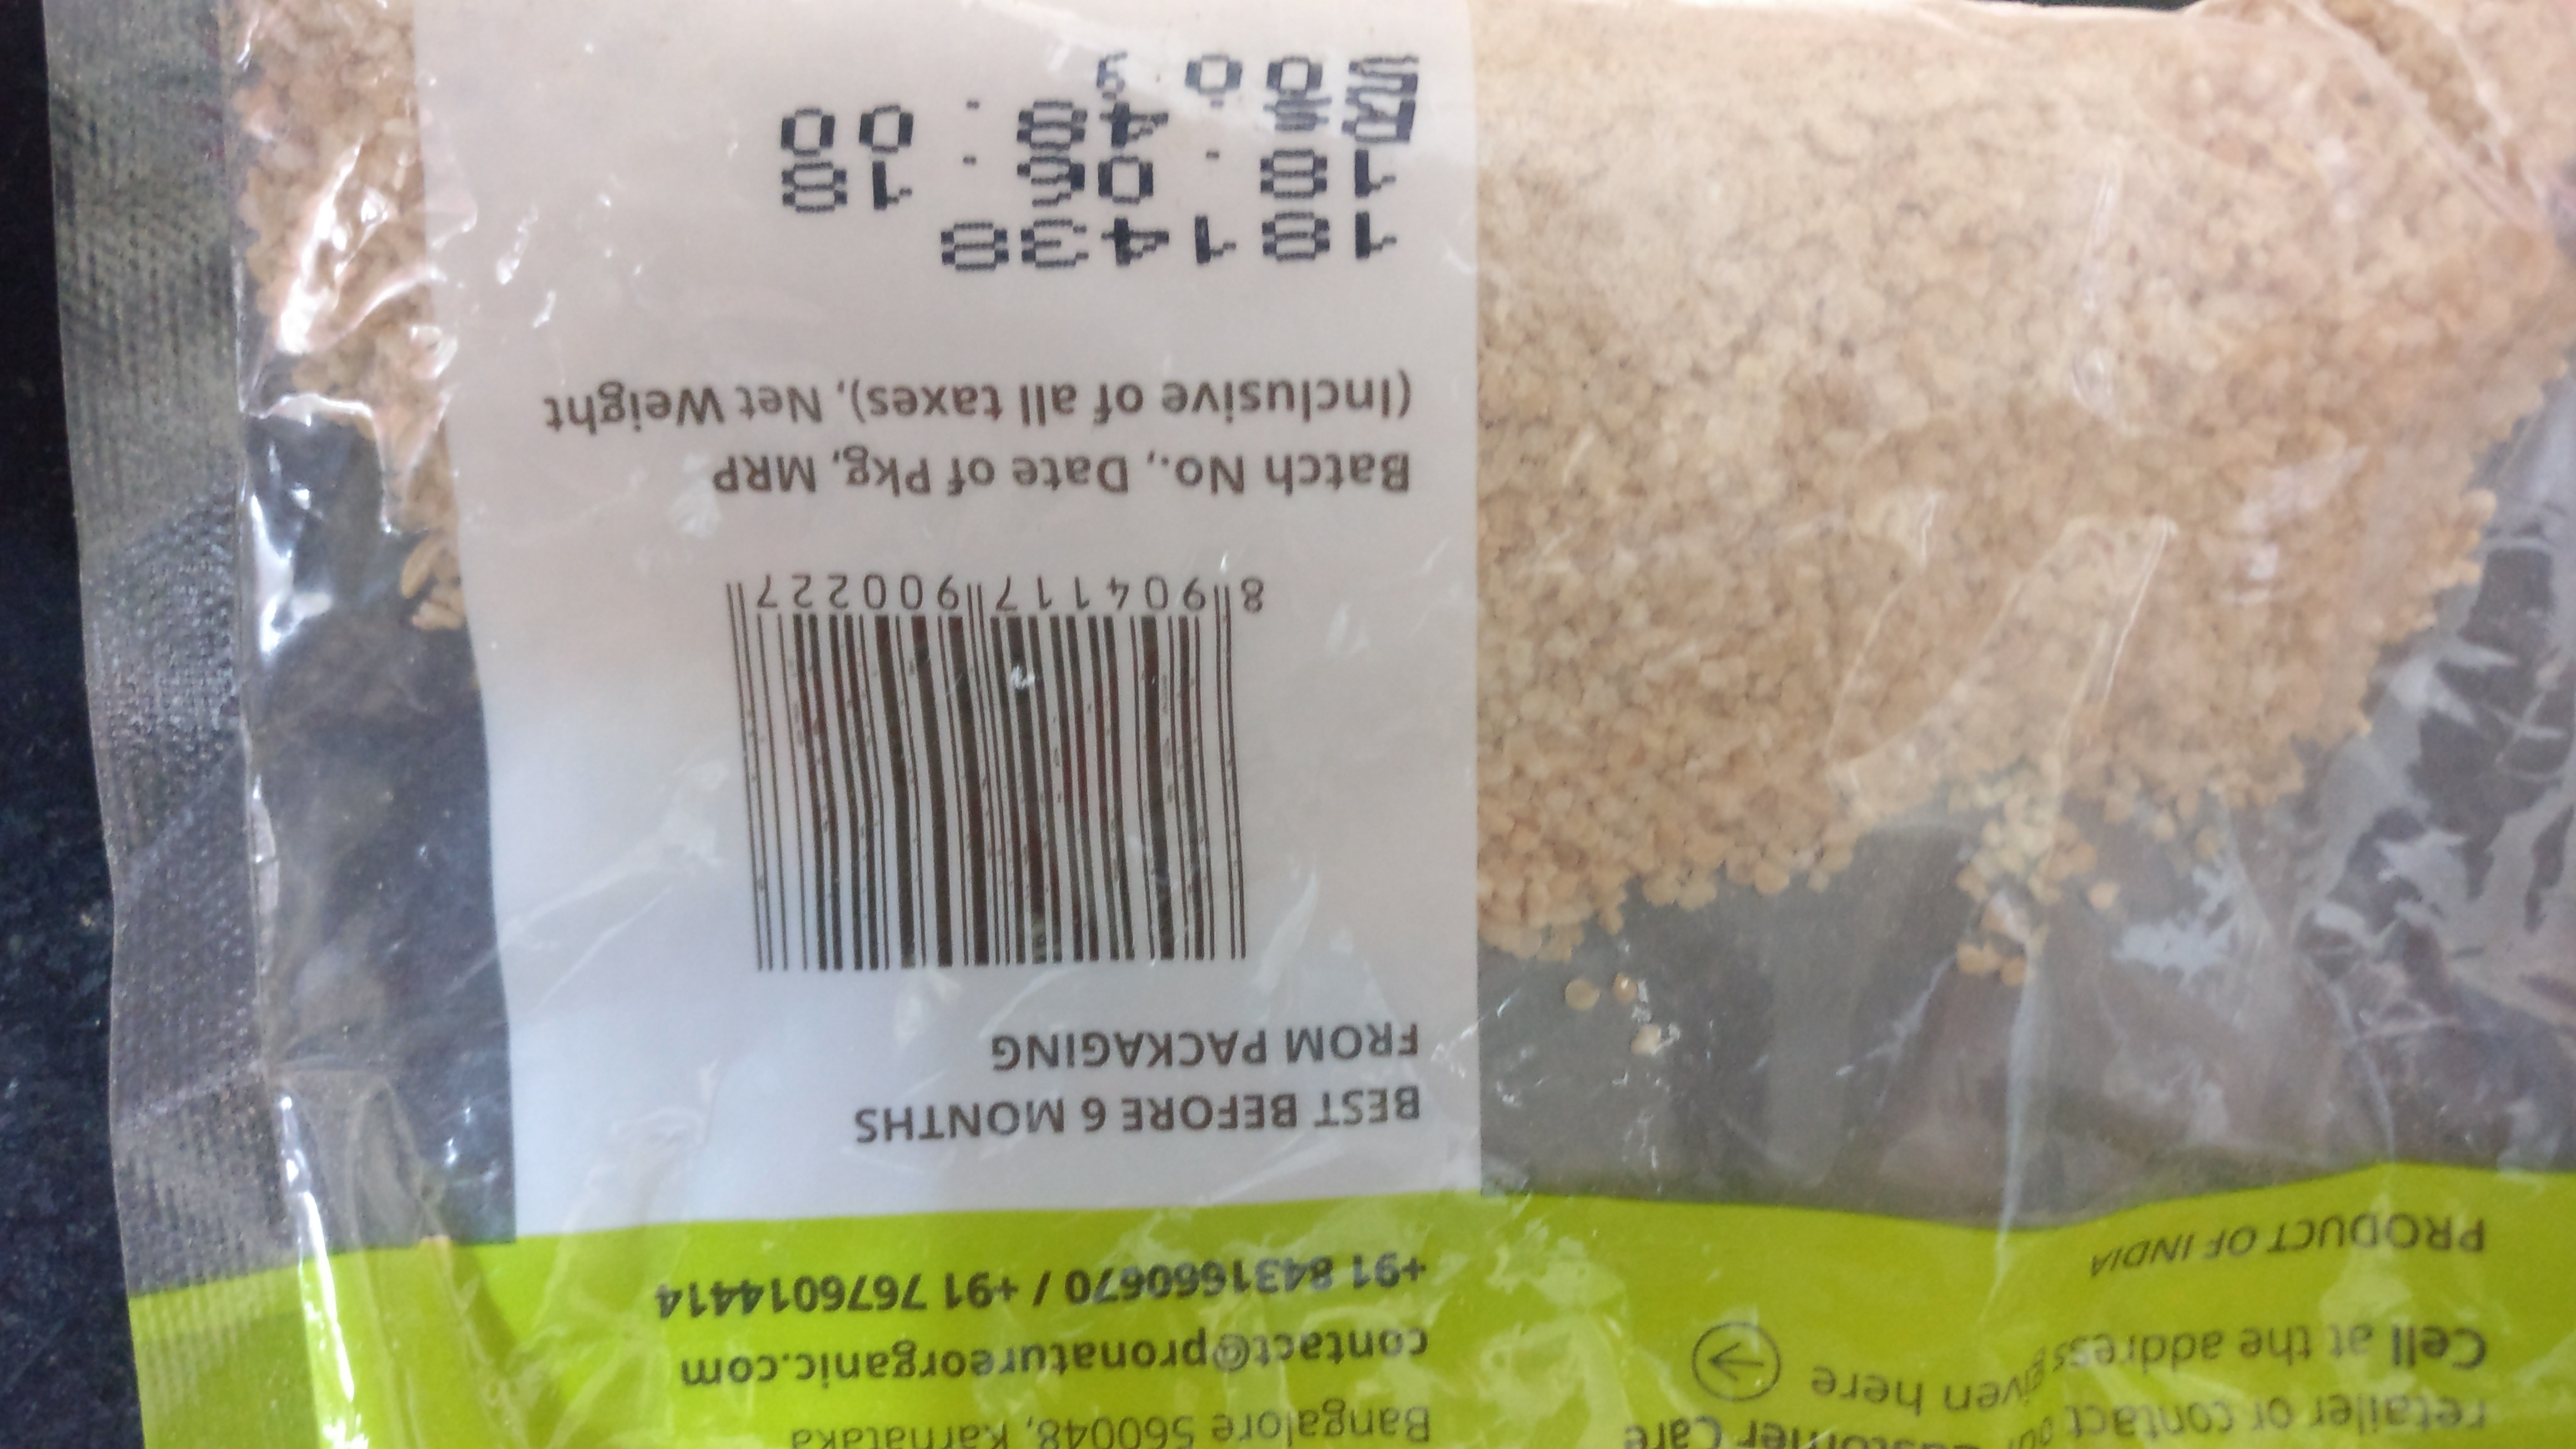barcode: (720, 536, 1286, 975)
